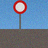sign: (13, 0, 27, 31)
